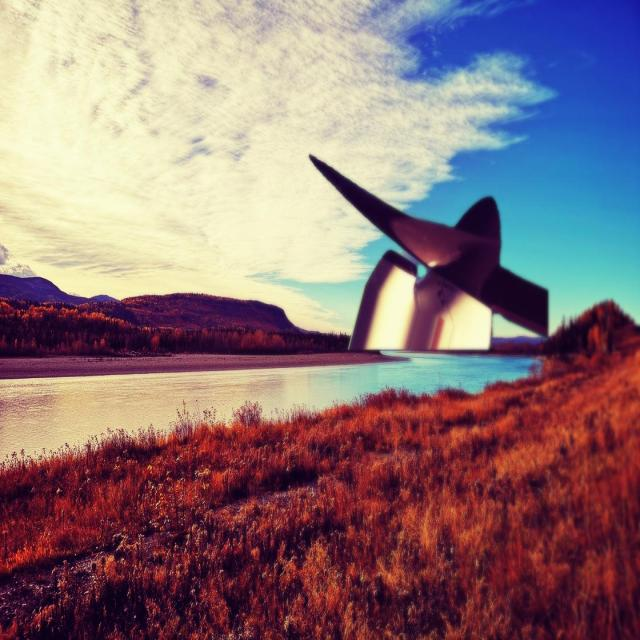airplane: (308, 153, 550, 353)
